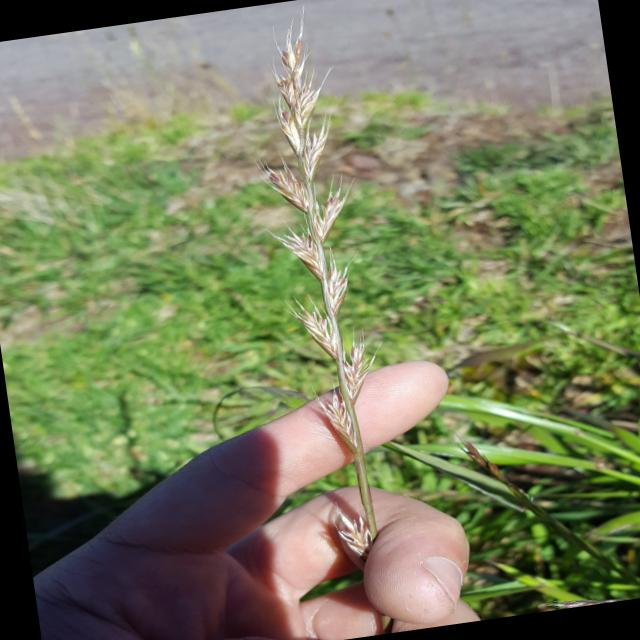Lolium: (231, 1, 414, 572)
